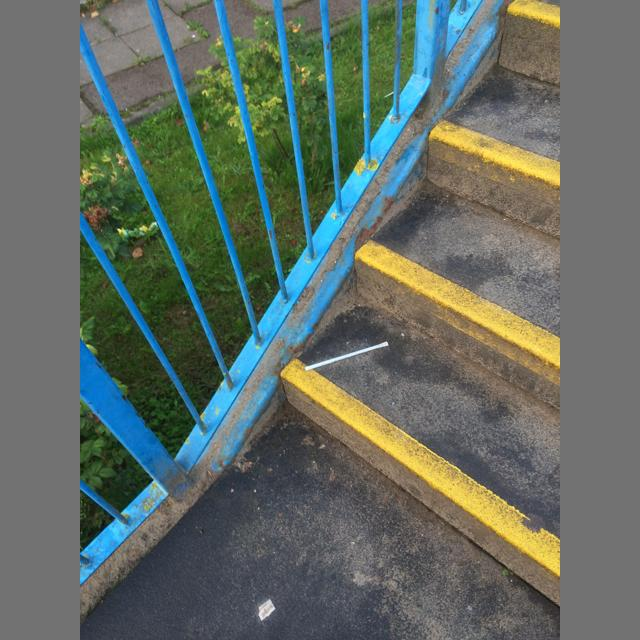litter: (305, 342, 388, 371), (259, 599, 275, 621)
